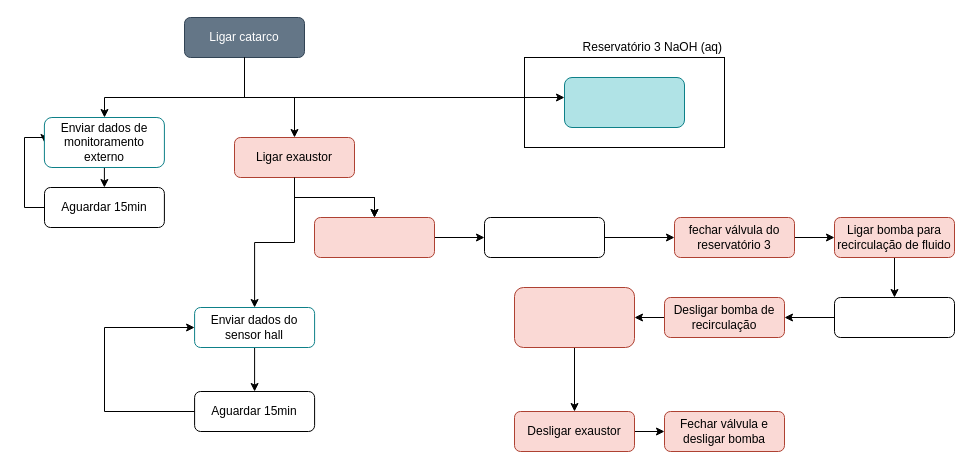
Image size: 972x469. Some labels were removed from this diagram. Here are the shapes that lost their labels. From the top down, the centre of each, then its label:
pixel 624 102: Monitoramento de temperatura constante
pixel 374 237: Abrir válvula do reservatório 3
pixel 544 237: Aguardar escoamento do fluido
pixel 574 317: Abrir válvula de escoamento para reservatório 1 e ligar bomba
pixel 894 317: Aguardar 5 horas
